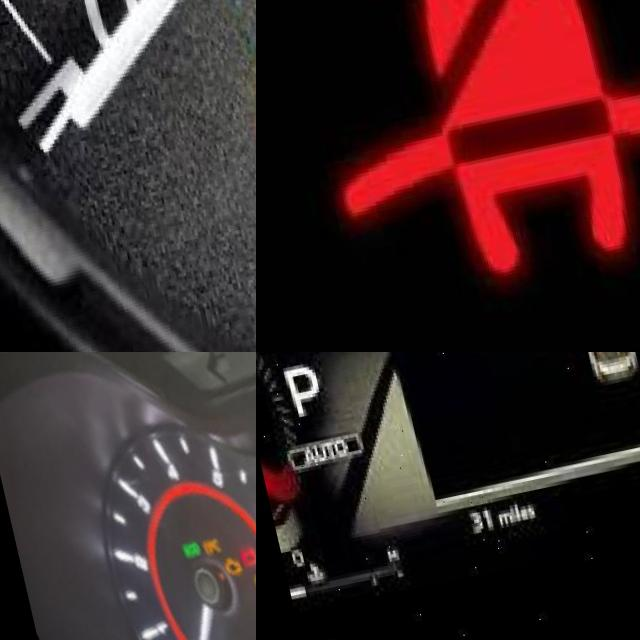Seat Belt: (256, 0, 640, 304), (227, 44, 256, 169)
